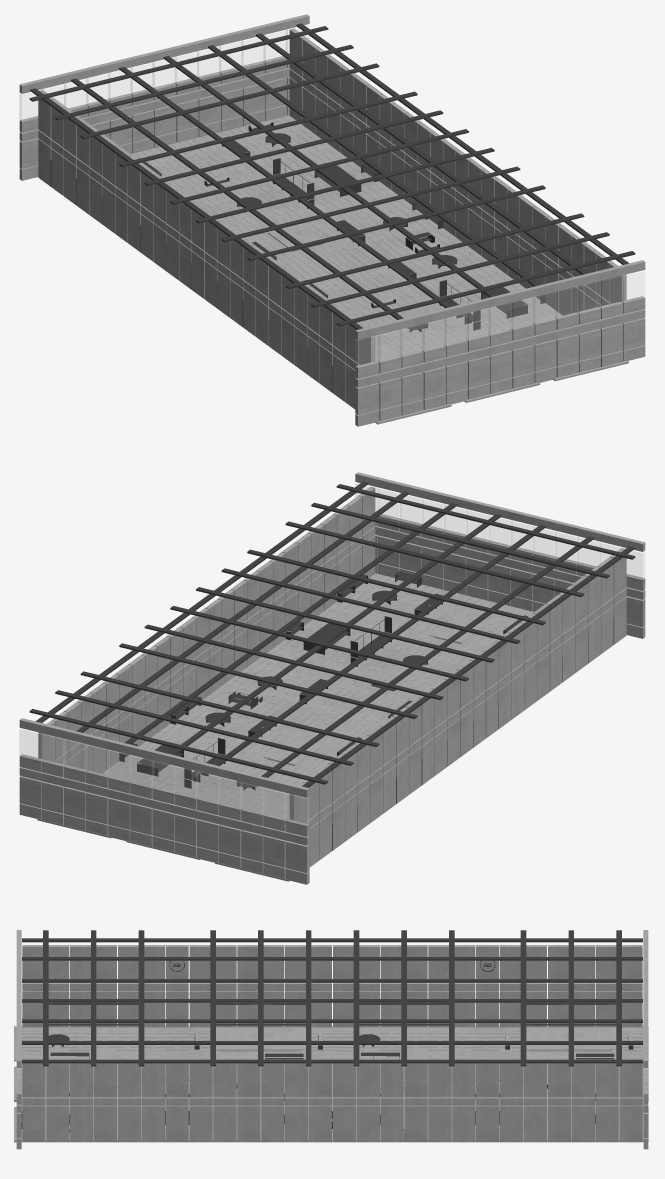
Rendered from conc-noroof-opt-v2.glb.
3 views of the same model, one above another, from view 1: azimuth 30°, elevation 25°; view 2: azimuth 150°, elevation 25°; view 3: azimuth 270°, elevation 25° (orthographic). The views are drawn at different scales.
Parts seen in each view (by area): view 1: Merged Objects 8, Merged Objects 10, Merged Objects 9; view 2: Merged Objects 8, Merged Objects 10, Merged Objects 9; view 3: Merged Objects 8, Merged Objects 10, Merged Objects 9.
Boxes of the visible parts, box(x1,y1,x2,y2) form: Merged Objects 8: box(19, 14, 645, 426); Merged Objects 10: box(29, 23, 635, 392); Merged Objects 9: box(19, 24, 644, 366); Merged Objects 8: box(19, 472, 645, 884); Merged Objects 10: box(29, 481, 635, 850); Merged Objects 9: box(19, 482, 644, 824); Merged Objects 8: box(14, 930, 648, 1149); Merged Objects 10: box(21, 930, 642, 1141); Merged Objects 9: box(16, 1056, 648, 1101).
Bounding box in the file's own units: 40 × 14.16 × 80.
4 materials, 1 textured.
